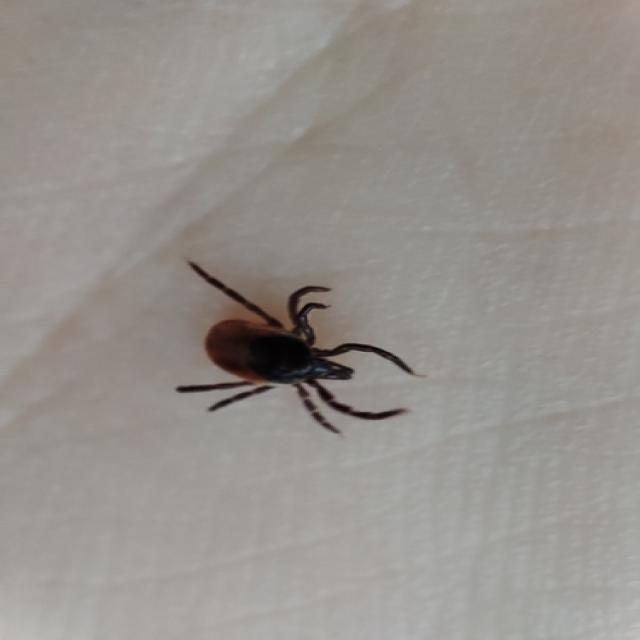Ixodes Ricinus-F: (176, 261, 423, 433)
